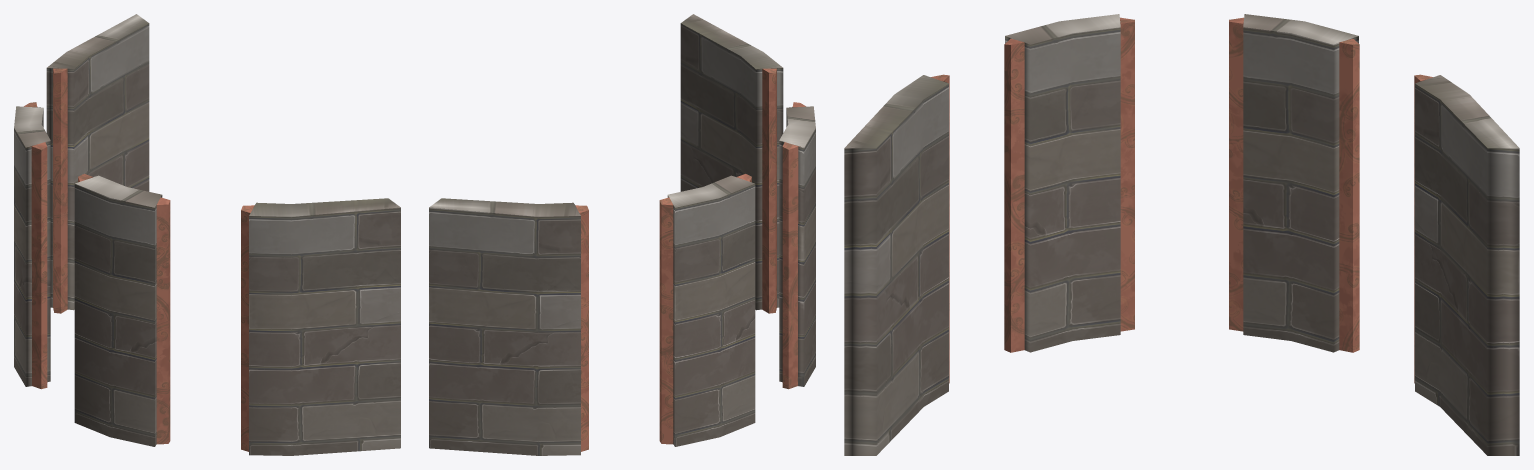
File: wall_tower_window_mid.fbx
The picture shows the model from 3 angles, left to right: view 1: azimuth 30°, elevation 25°; view 2: azimuth 150°, elevation 25°; view 3: azimuth 270°, elevation 25°; orthographic projection. The views are drawn at different scales.
Visible parts, largest first — view 1: tower_windows_bot:tower_windows_mid2, tower_windows_bot:tower_window_mid_copper1; view 2: tower_windows_bot:tower_windows_mid2, tower_windows_bot:tower_window_mid_copper1; view 3: tower_windows_bot:tower_windows_mid2, tower_windows_bot:tower_window_mid_copper1.
Boxes of the visible parts, <box> form: tower_windows_bot:tower_windows_mid2: <box>14,14,400,455</box>; tower_windows_bot:tower_window_mid_copper1: <box>24,68,254,451</box>; tower_windows_bot:tower_windows_mid2: <box>429,14,815,455</box>; tower_windows_bot:tower_window_mid_copper1: <box>575,68,805,451</box>; tower_windows_bot:tower_windows_mid2: <box>844,14,1519,455</box>; tower_windows_bot:tower_window_mid_copper1: <box>931,17,1432,383</box>.
Bounding box in the file's own units: 5.02 × 5.28 × 10.51.
